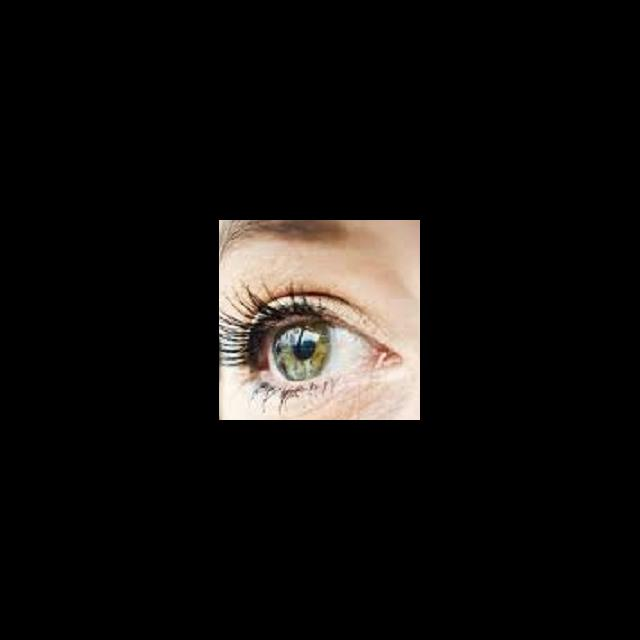eye: (263, 321, 369, 380)
iris: (274, 325, 332, 380)
